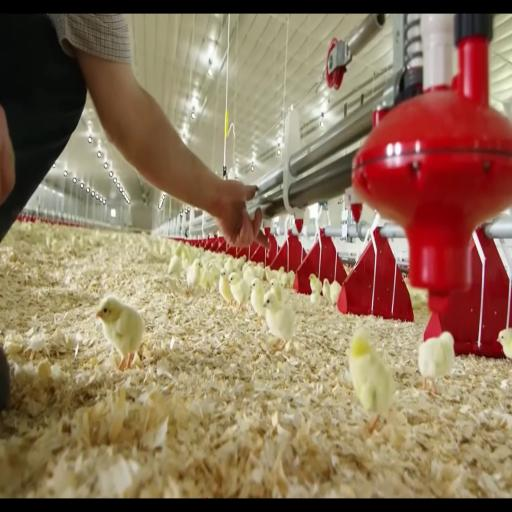chick: (348, 330, 394, 432), (96, 296, 143, 370), (419, 332, 454, 393), (264, 290, 295, 343), (229, 273, 250, 310), (251, 278, 265, 324), (186, 258, 203, 288), (219, 268, 233, 303), (497, 327, 512, 359), (199, 267, 215, 290), (206, 261, 219, 284), (270, 278, 283, 301), (168, 255, 182, 276), (330, 280, 341, 305), (310, 274, 322, 294), (243, 264, 255, 284), (310, 291, 325, 305), (265, 267, 278, 282), (322, 279, 330, 303), (254, 263, 264, 280), (279, 274, 291, 288), (287, 271, 295, 288)
